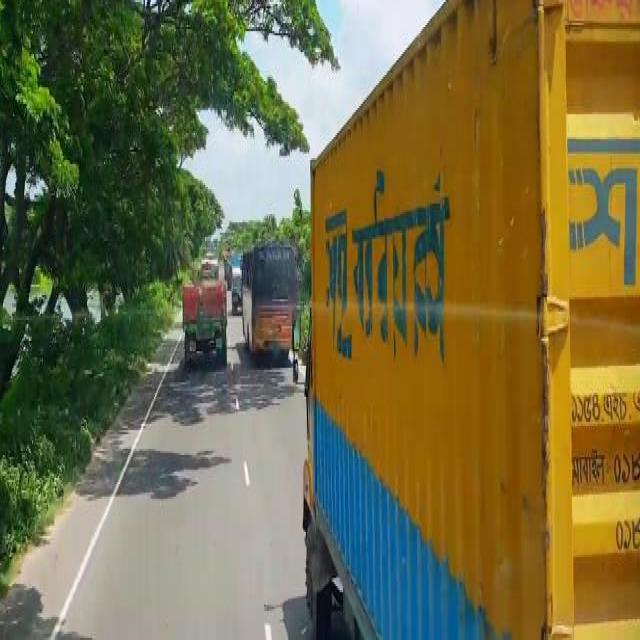vehicle: (289, 1, 640, 633), (241, 242, 300, 371), (181, 268, 230, 374)
